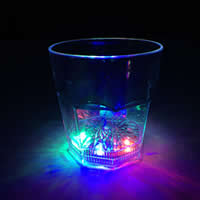plastic_glass: (36, 18, 177, 190)
